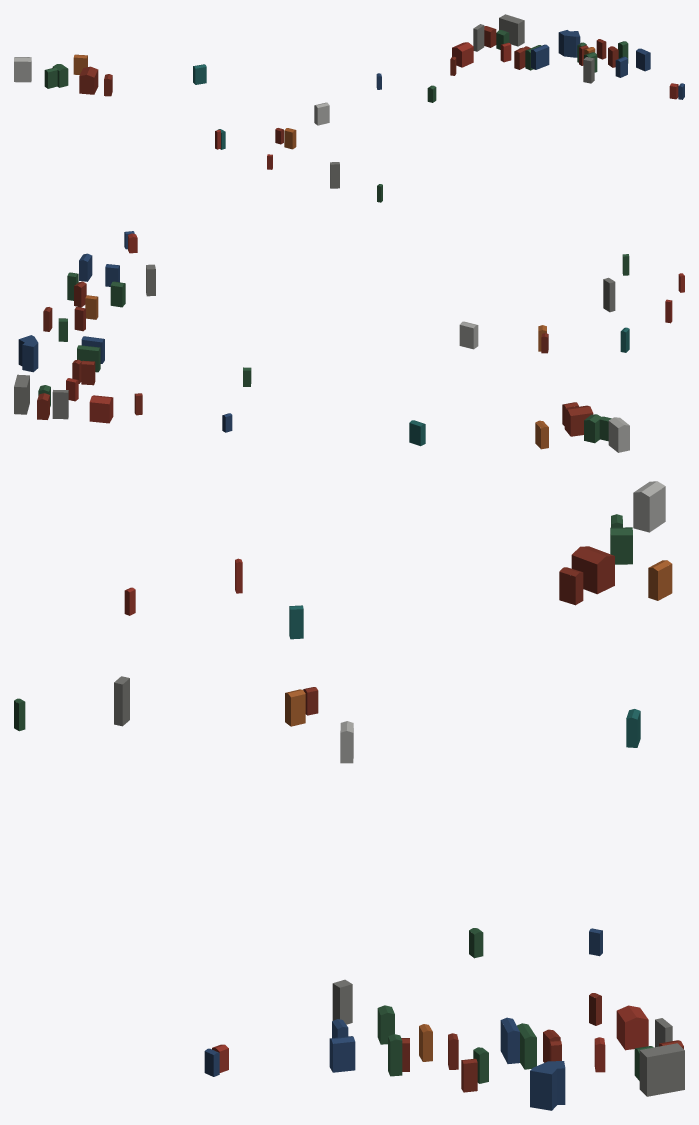
The model's file is near-16-54718-29733.b964625d.glb.
The picture shows the model from 3 angles, top to bottom: view 1: azimuth 30°, elevation 25°; view 2: azimuth 150°, elevation 25°; view 3: azimuth 270°, elevation 25°; orthographic projection. The views are drawn at different scales.
Bounding box in the file's own units: 565 × 107 × 347.
